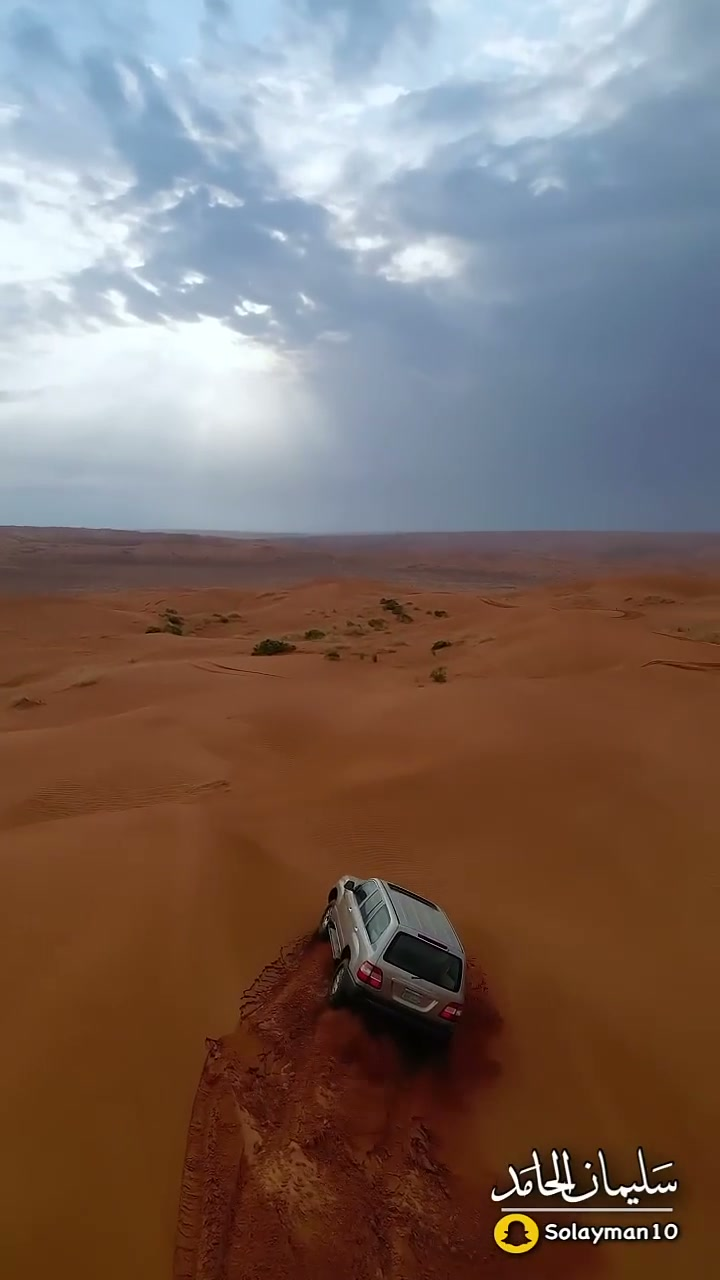vehicle_track: (174, 939, 508, 1279)
